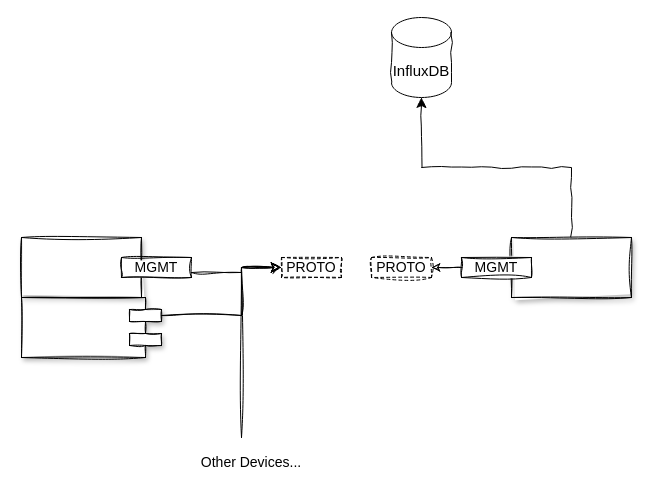
Some shapes in this 655 by 495 pixel diagram are drawn without their labels. Here are the shapes that lost their labels. From the top down, the centre of each, then its label:
(x=82, y=268): Your App
(x=572, y=268): fc-influx
(x=92, y=328): Other...
